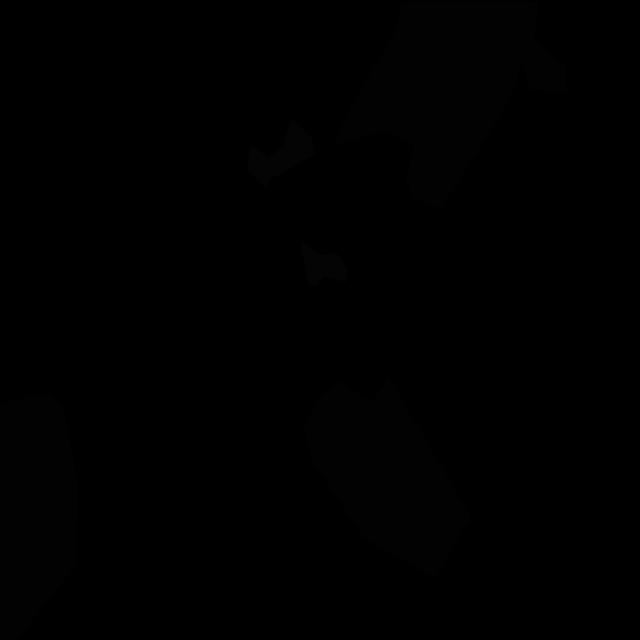cardboard: (333, 1, 566, 208), (303, 378, 471, 579), (0, 393, 77, 640)
soft_plastic: (247, 118, 315, 189), (300, 240, 348, 286)
